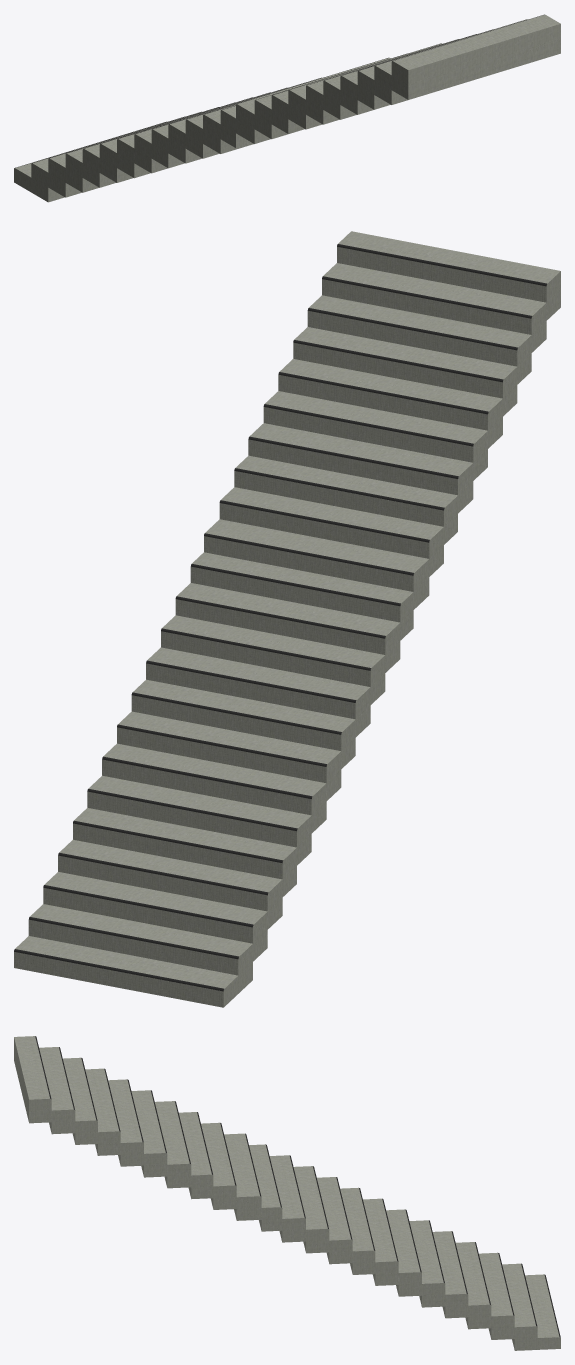
The model's file is 1_to_0_stair_1_sized.glb.
3 renders of one model, top to bottom at view 1: azimuth 30°, elevation 25°; view 2: azimuth 150°, elevation 25°; view 3: azimuth 270°, elevation 25°, orthographic. The views are drawn at different scales.
Parts seen in each view (by area): view 1: Cube_051; view 2: Cube_051; view 3: Cube_051.
Boxes of the visible parts, x1=… form: Cube_051: x1=14, y1=14, x2=560, y2=202; Cube_051: x1=14, y1=231, x2=560, y2=1007; Cube_051: x1=14, y1=1036, x2=560, y2=1350.
Bounding box in the file's own units: 2.44 × 3.61 × 6.58.
2 materials, 1 textured.
